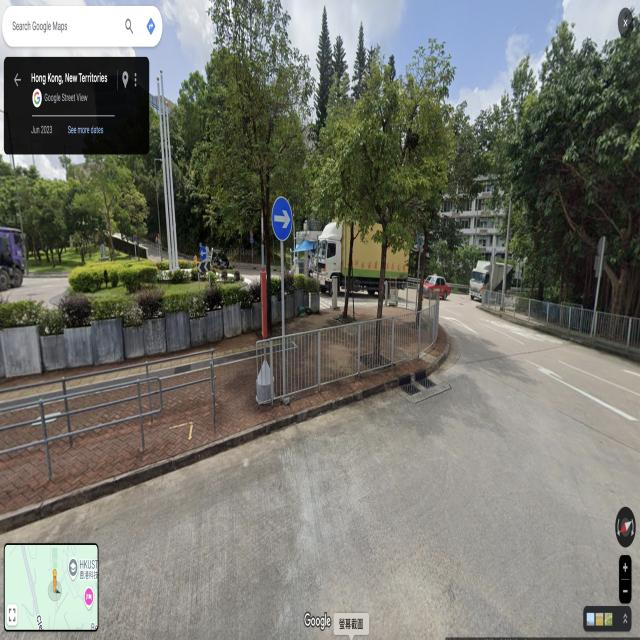Order-Sign: (272, 198, 292, 238), (200, 247, 207, 260)
